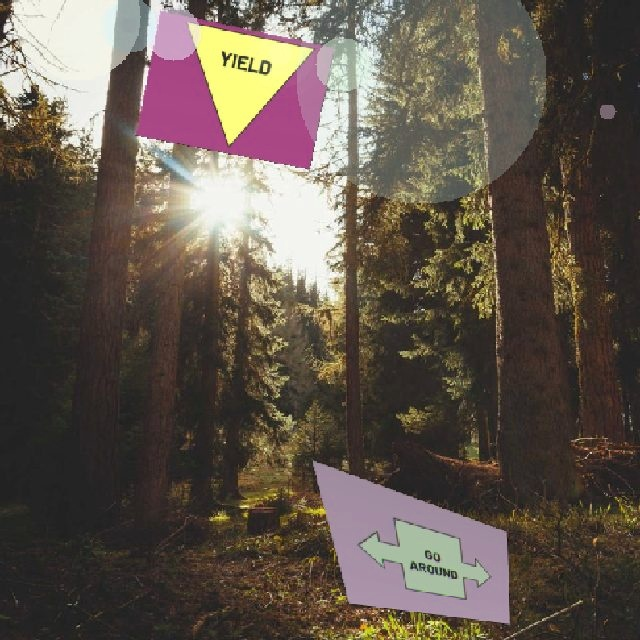GO_AROUND: (347, 502, 491, 605)
YIELD: (160, 20, 316, 160)
